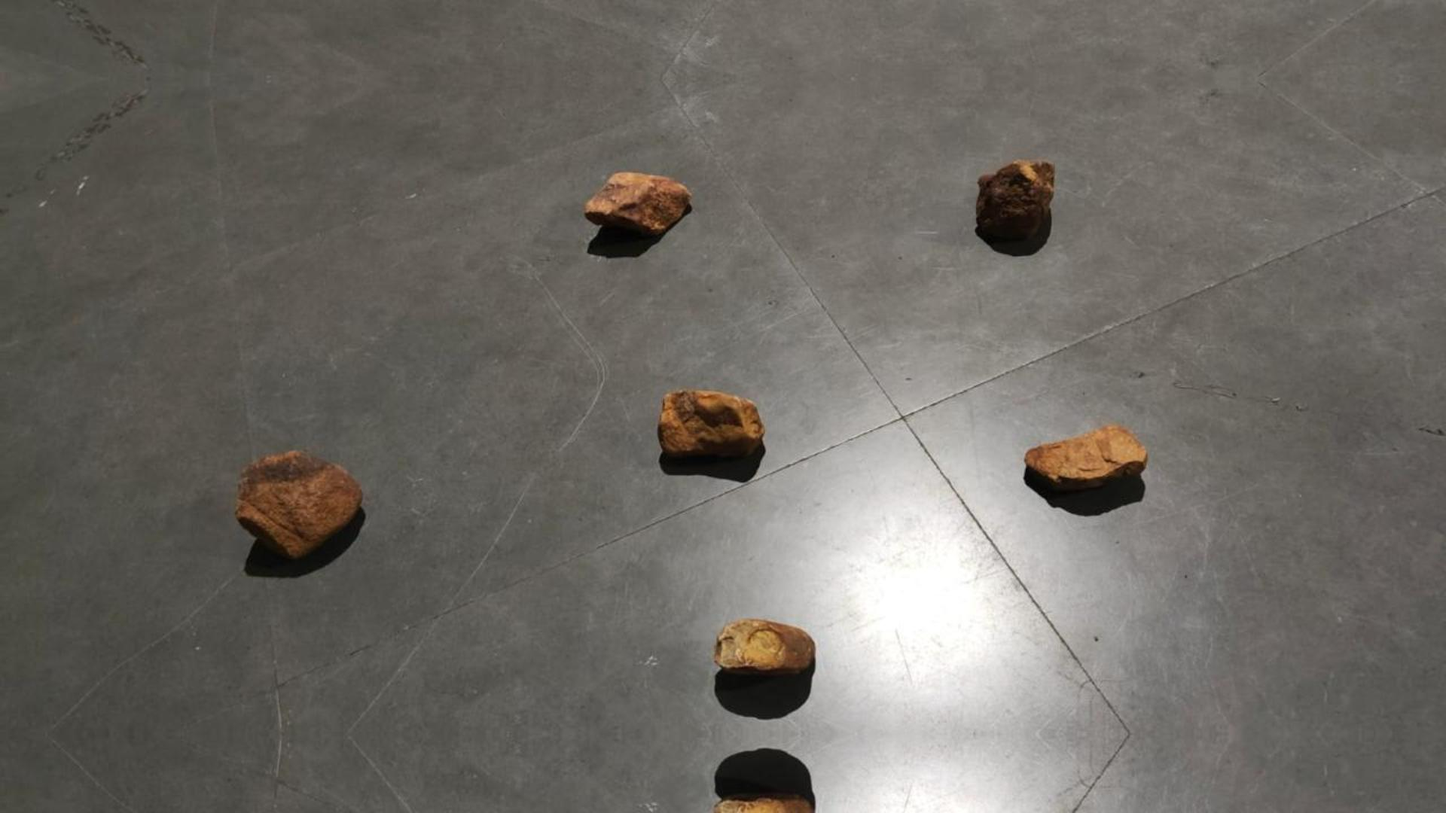rock: (235, 451, 362, 558), (1025, 423, 1147, 490), (657, 388, 764, 457), (584, 172, 691, 236), (976, 159, 1054, 239), (714, 618, 815, 674), (712, 794, 813, 812)
